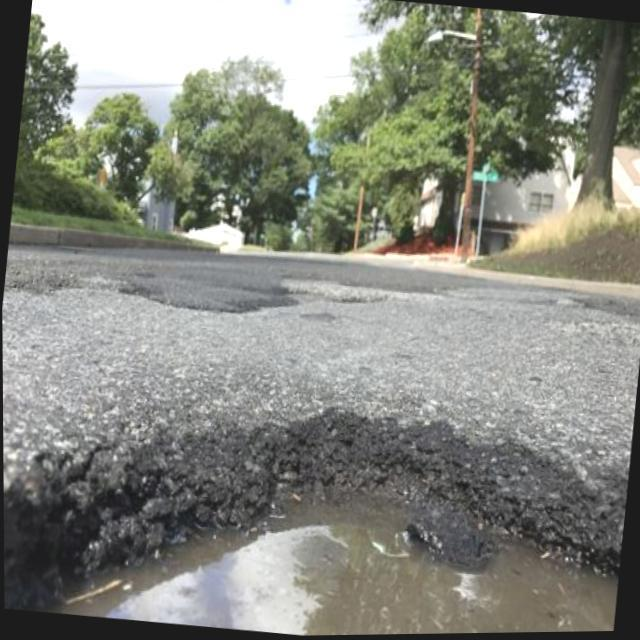Pothole: (3, 463, 620, 636)
